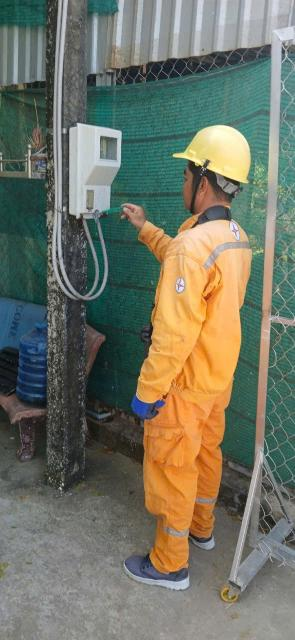gloves: (130, 376, 174, 428)
helmet: (166, 118, 273, 184)
shoes: (115, 547, 206, 603), (184, 521, 227, 559)
